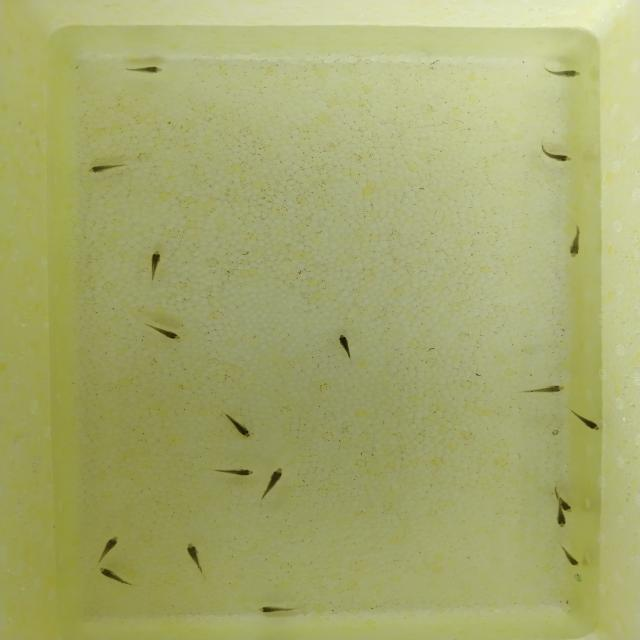fingerling: (530, 140, 577, 166), (563, 406, 605, 434), (260, 464, 290, 503), (181, 540, 211, 578), (141, 248, 166, 288), (222, 410, 254, 441), (139, 320, 184, 342), (516, 382, 570, 399), (564, 222, 587, 261), (332, 331, 358, 365), (122, 60, 170, 78), (254, 600, 307, 616), (96, 566, 134, 588), (554, 540, 583, 568), (539, 64, 587, 80), (210, 465, 258, 480), (554, 482, 577, 512), (96, 534, 122, 560), (82, 161, 132, 174), (550, 513, 570, 529)
